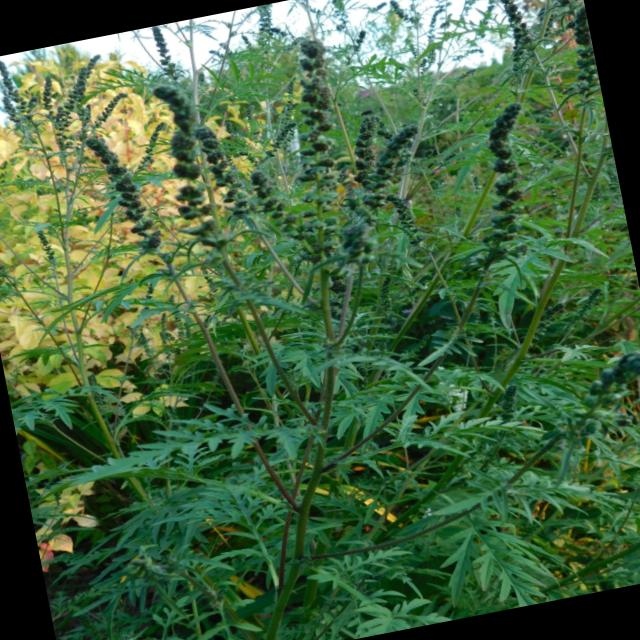ambrosia: (276, 66, 600, 284), (260, 1, 398, 271), (49, 80, 187, 316), (138, 49, 254, 274), (99, 358, 279, 502), (412, 469, 570, 621), (457, 0, 592, 67)
